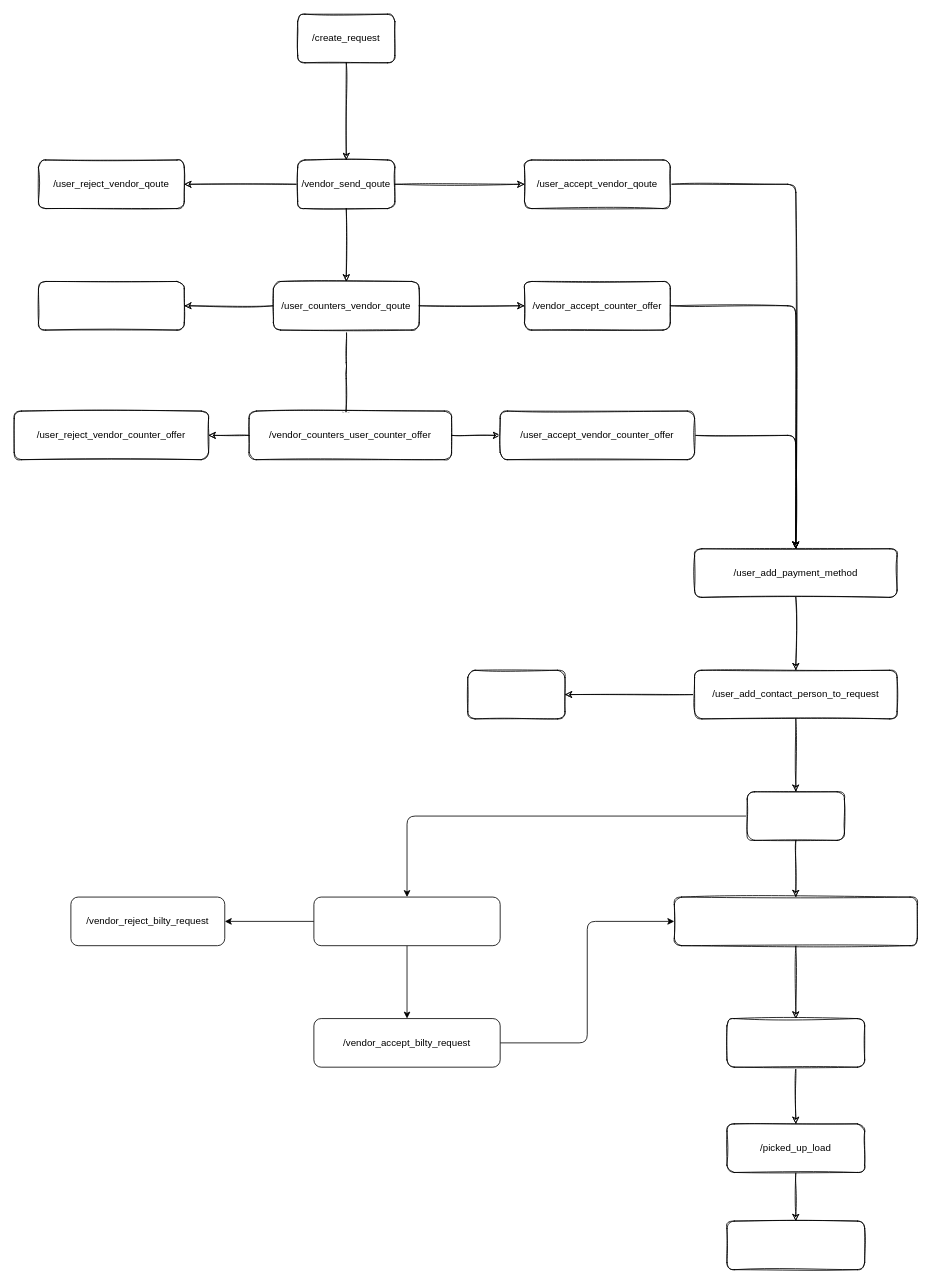
The diagram is 932 pixels wide and 1284 high, and some of its shapes have lost their labels. Each missing label, with the centre of its shape:
"/driver_delivered" belongs at (795,1245).
"/order_accept" belongs at (795,815).
"/order_reject" belongs at (516,694).
"/reached_origin" belongs at (795,1042).
"/vendor_allot_vehicle_and_driver_to_request" belongs at (795,921).
"/vendor_bilty_request_to_vendor" belongs at (406,921).
"/vendor_reject_counter_offer" belongs at (111,305).
